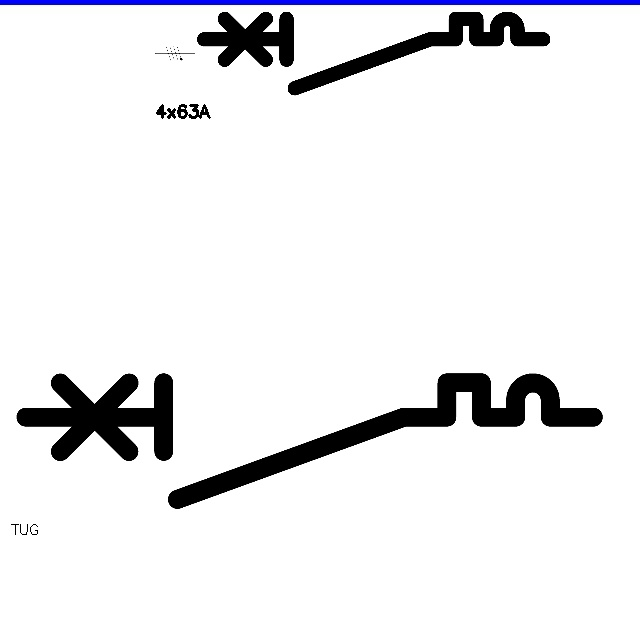interruptor_termomagnetico: (11, 368, 608, 514), (195, 10, 551, 97)
